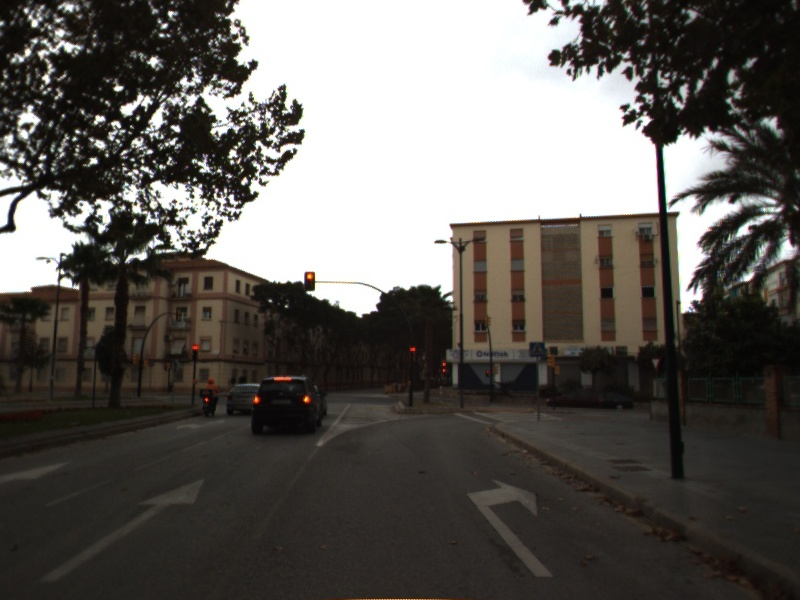RIGHT: (463, 474, 560, 579)
STRAIGHT: (34, 473, 210, 586)
